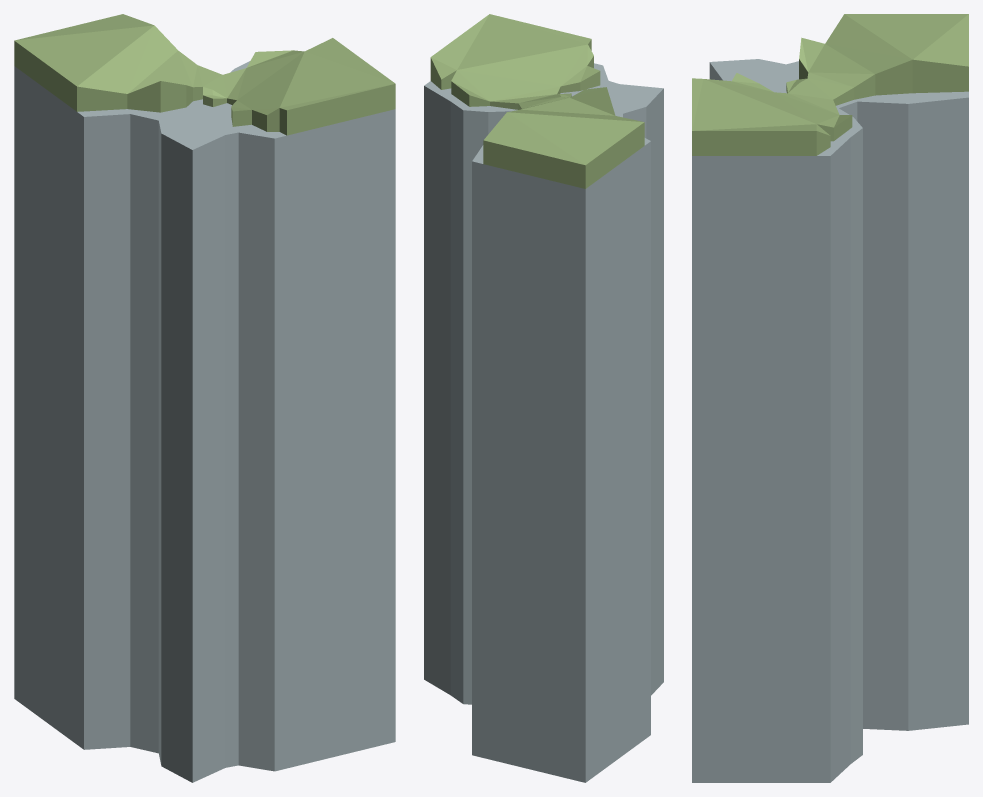
The model's file is Dual_Grid_L_W_L_W.fbx.
3 views of the same model, side by side, from view 1: azimuth 30°, elevation 25°; view 2: azimuth 150°, elevation 25°; view 3: azimuth 270°, elevation 25° (orthographic). The views are drawn at different scales.
Visible parts, largest first — view 1: Tile_L_W_L_W; view 2: Tile_L_W_L_W; view 3: Tile_L_W_L_W.
Part boxes in pixels (x1,y1,x2,y2): Tile_L_W_L_W: [14, 14, 395, 782]; Tile_L_W_L_W: [424, 14, 663, 782]; Tile_L_W_L_W: [692, 14, 968, 782].
Bounding box in the file's own units: 100 × 100 × 263.
